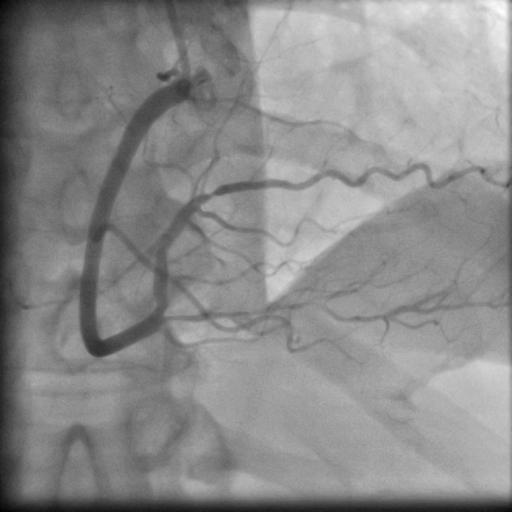Stenosis: (200, 183, 219, 202)
